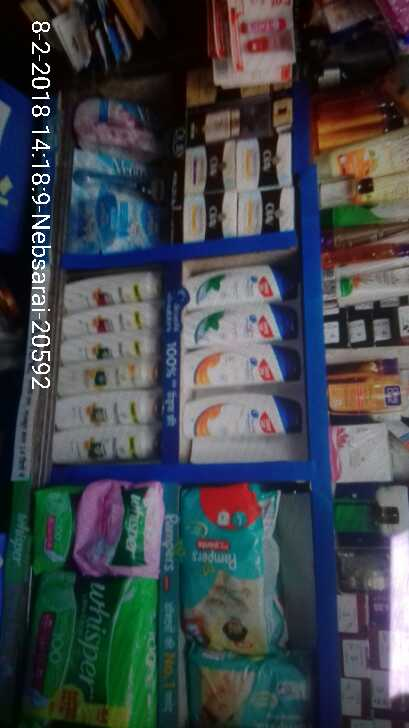venus: (72, 194, 167, 249), (75, 100, 163, 150), (75, 150, 167, 194)
